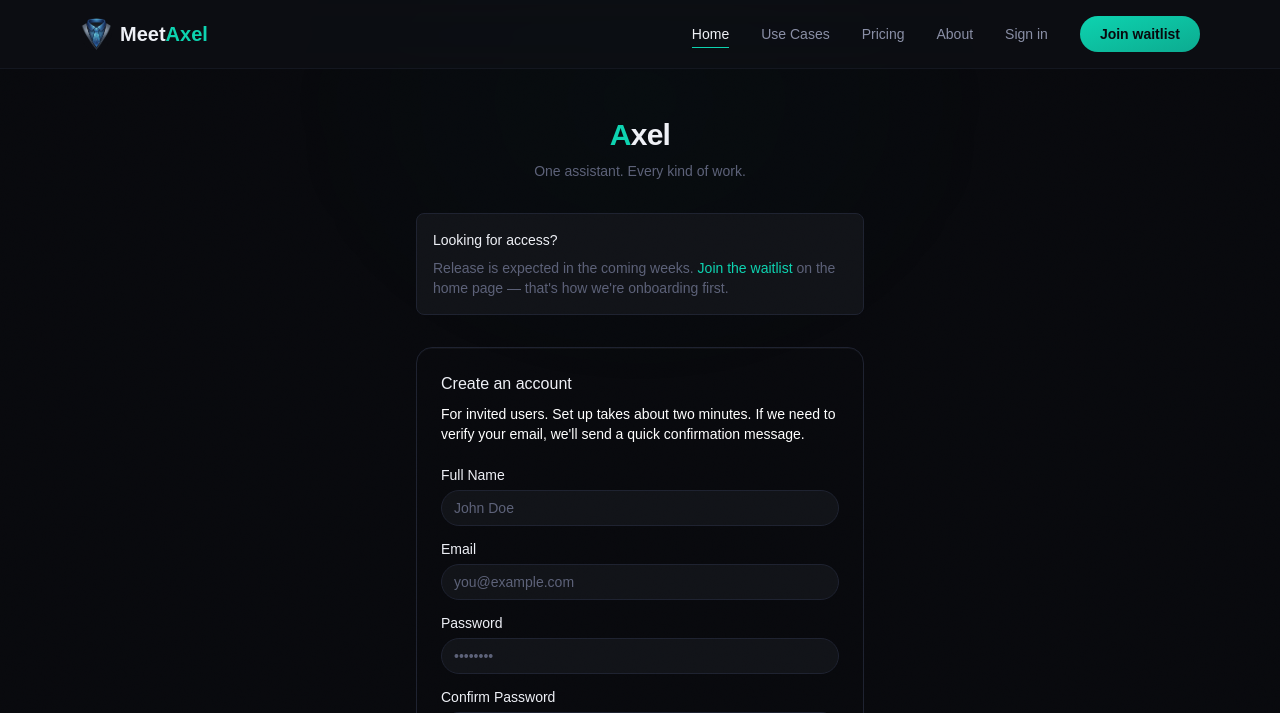
Test case: SignUp › shows error when signUp returns success false
Type "Test User" into the field labelled "Full Name" at (640, 508), box [441,490,839,526]
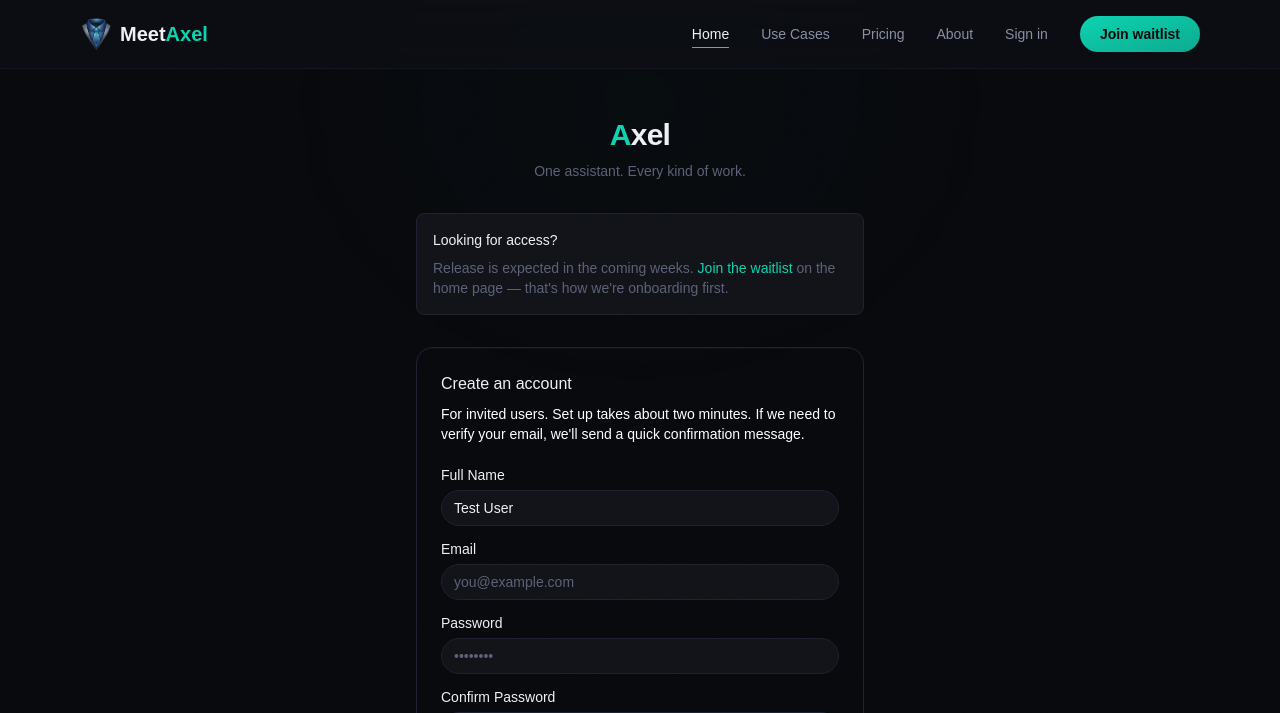
Type "test@example.com" into the field labelled "Email" at (640, 582), box [441,564,839,600]
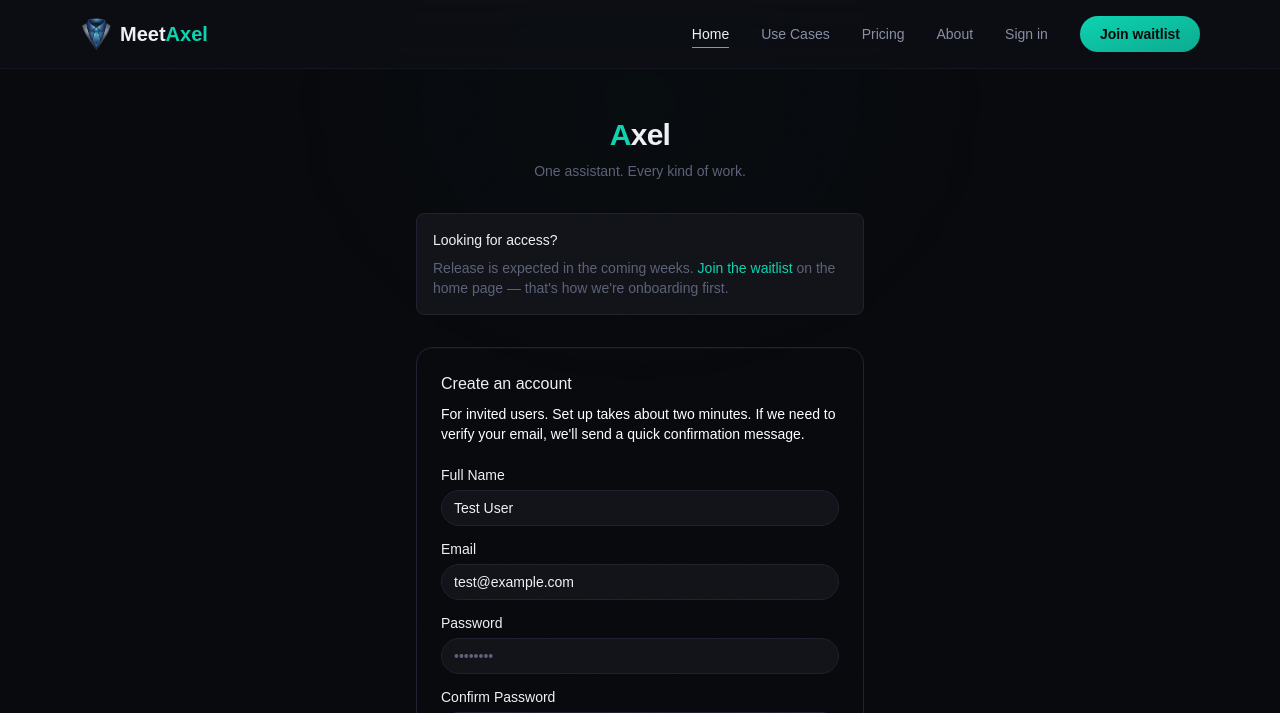
Type "password123" into the password field labelled "Password" at (640, 656), box [441,638,839,674]
(page scrolled)
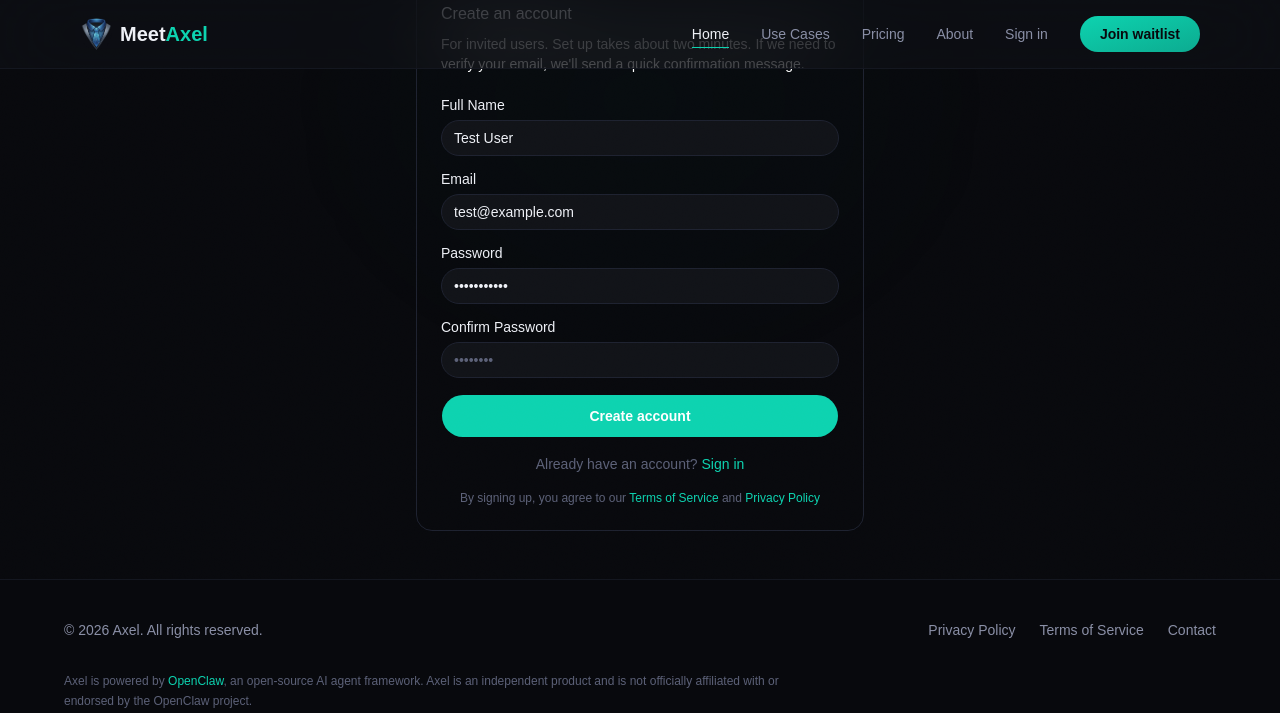
Type "password123" into the password field labelled "Confirm Password" at (640, 360), box [441,342,839,378]
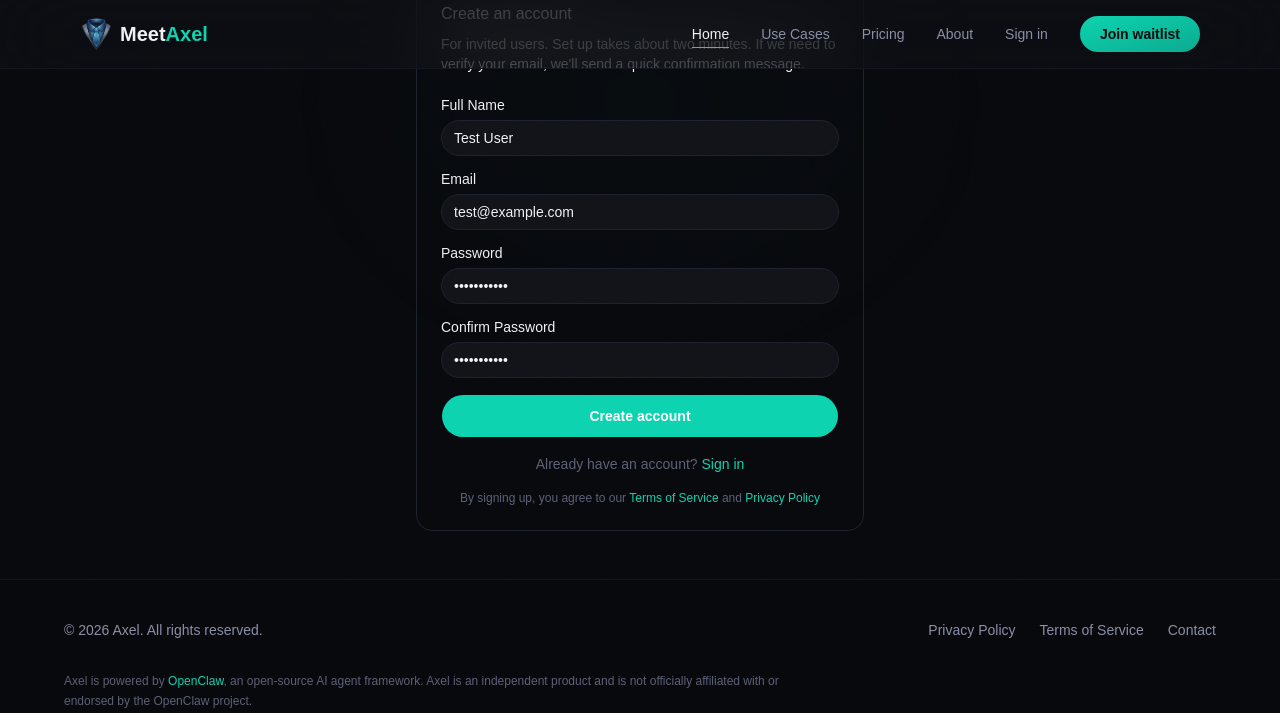
Submit the form "Full Name Email Password Confirm Password Create account", box [441,98,839,438]
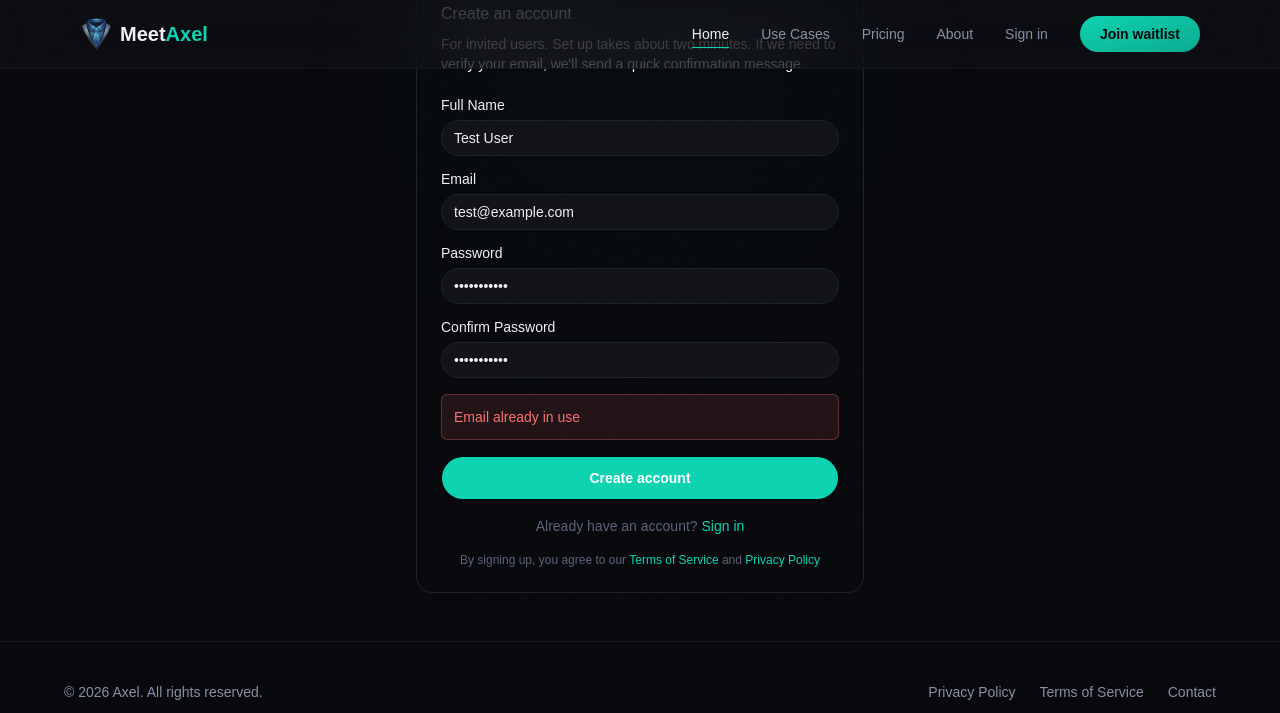
Result: the text "Email already in use" is shown at [441,394,839,440]
